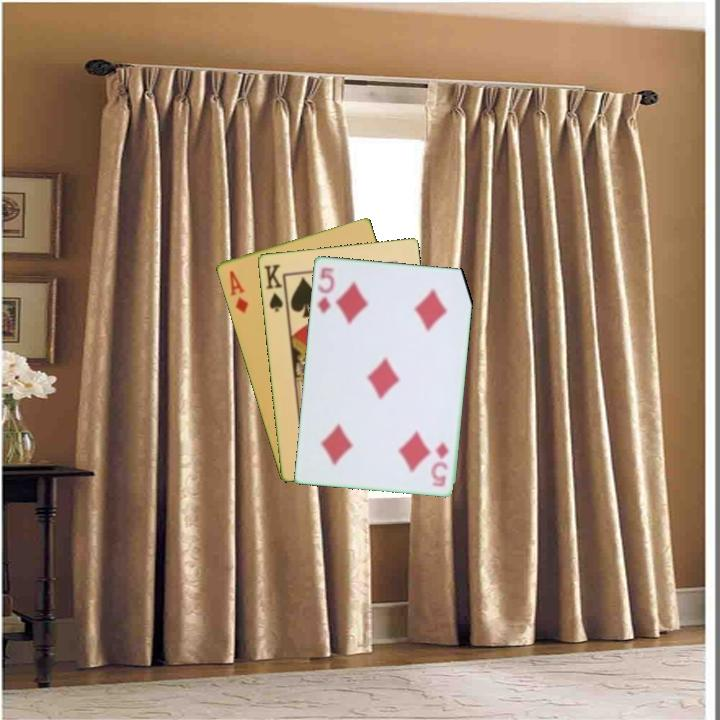5d: (314, 263, 337, 316), (429, 437, 451, 489)
Ad: (225, 267, 251, 316)
Ks: (260, 260, 286, 314)
